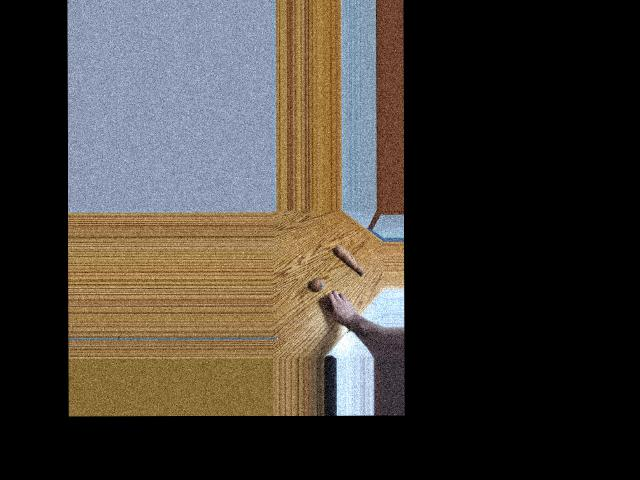onion: (325, 297, 340, 313)
